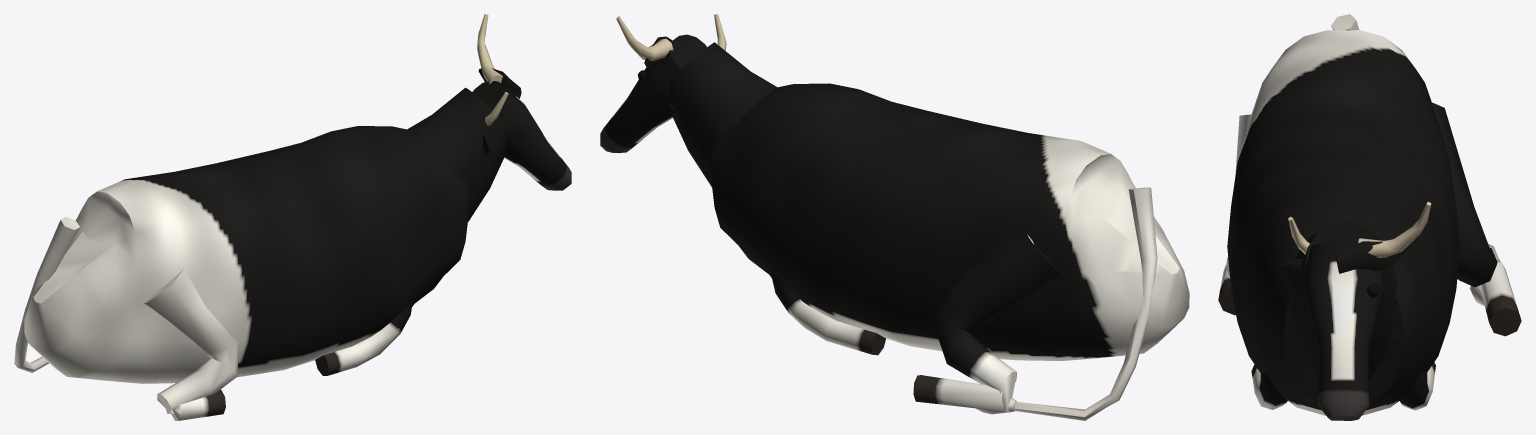
File: tpl_life_stall_1889_cow_6_cattle_fh_lie_h.glb
The picture shows the model from 3 angles, left to right: view 1: azimuth 30°, elevation 25°; view 2: azimuth 150°, elevation 25°; view 3: azimuth 270°, elevation 25°; orthographic projection. The views are drawn at different scales.
Visible parts, largest first — view 1: tpl_life_stall_1889_cow_6_cattle_fh_lie_h; view 2: tpl_life_stall_1889_cow_6_cattle_fh_lie_h; view 3: tpl_life_stall_1889_cow_6_cattle_fh_lie_h.
Boxes of the visible parts, x1=… form: tpl_life_stall_1889_cow_6_cattle_fh_lie_h: x1=14, y1=14, x2=571, y2=420; tpl_life_stall_1889_cow_6_cattle_fh_lie_h: x1=600, y1=14, x2=1189, y2=420; tpl_life_stall_1889_cow_6_cattle_fh_lie_h: x1=1218, y1=14, x2=1521, y2=420.
Bounding box in the file's own units: 2.32 × 1.08 × 0.9187.
Materials: 3 (1 with a texture image).
